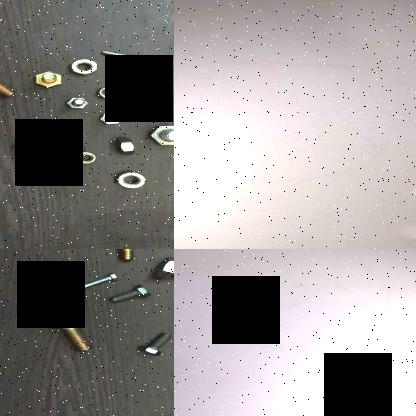Bolts: (48, 312, 96, 354), (134, 328, 174, 357), (94, 42, 145, 64), (104, 284, 156, 304), (75, 270, 117, 290), (0, 61, 20, 96), (152, 253, 174, 284), (32, 68, 66, 88), (148, 120, 174, 146), (61, 92, 91, 110), (110, 249, 144, 262), (96, 110, 125, 124), (148, 78, 172, 90)
NUTS: (111, 168, 149, 189), (10, 136, 44, 157), (110, 135, 140, 157), (72, 147, 100, 168), (66, 57, 100, 74), (94, 82, 120, 100)
